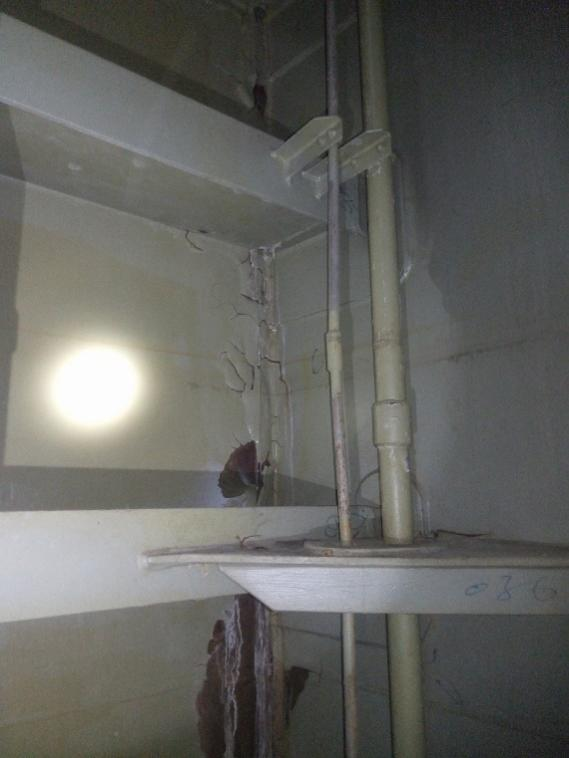corrosion: (188, 626, 309, 757), (207, 429, 281, 502)
